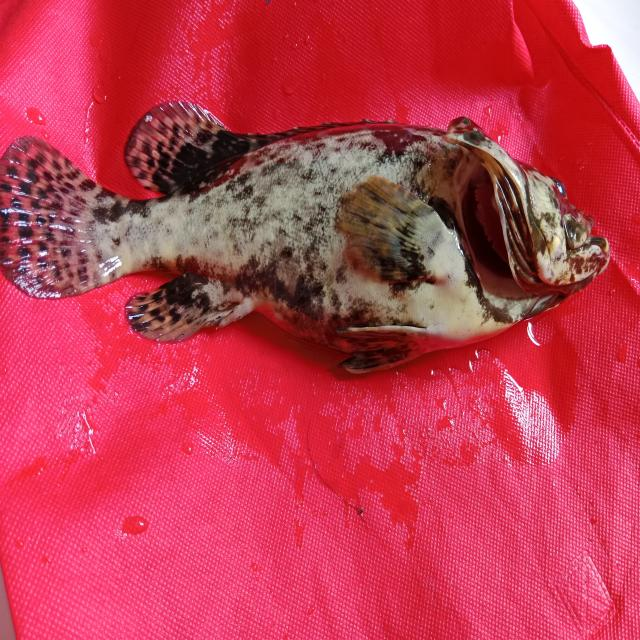ikan: (20, 93, 615, 382)
